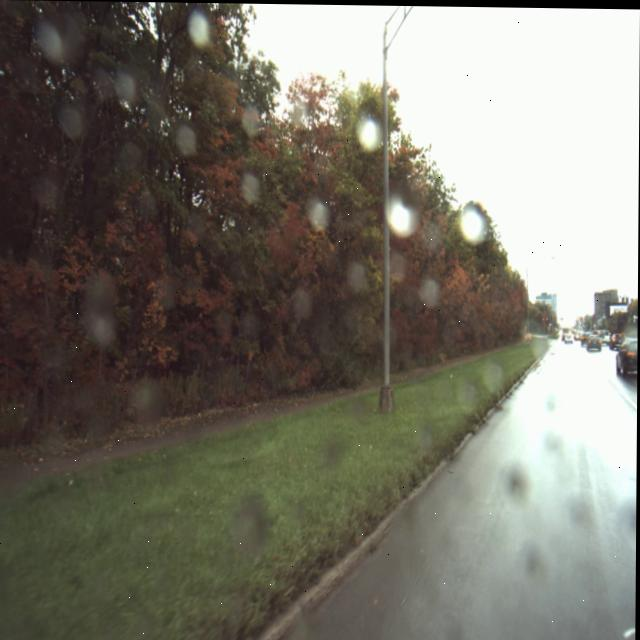car: (615, 333, 638, 380), (588, 334, 602, 349), (562, 327, 575, 342), (581, 331, 590, 346)
